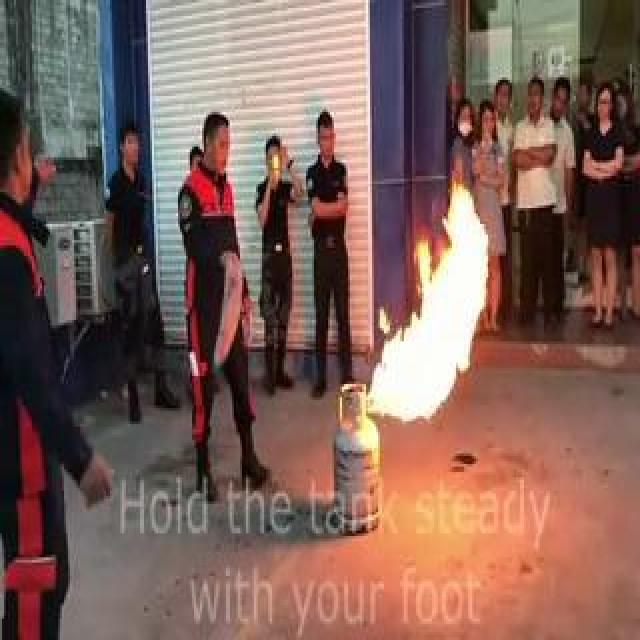Smoke: (399, 99, 474, 421)
